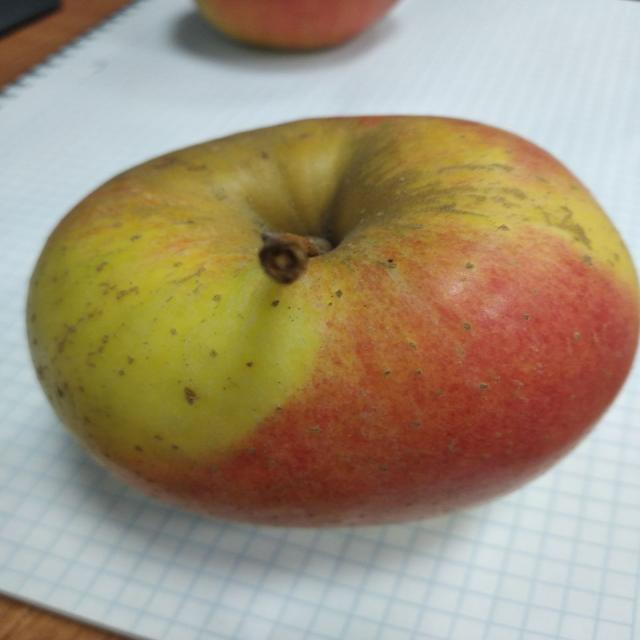Fresh Apple: (18, 111, 640, 518)
